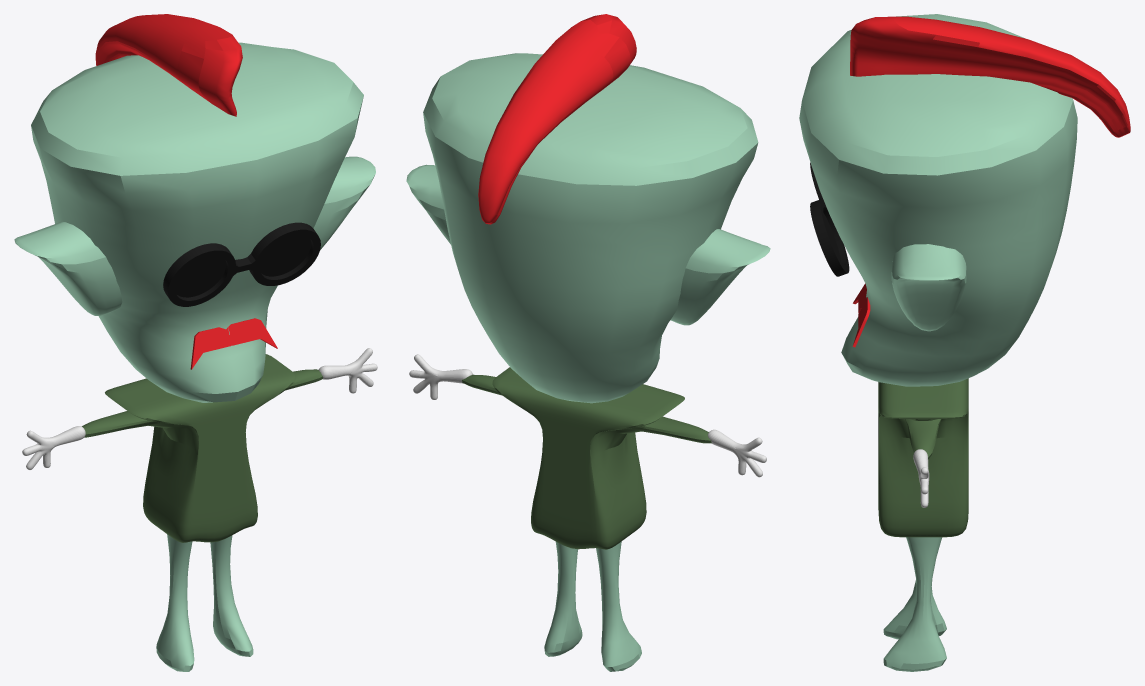
The model's file is Dr.NeoVillano.fbx.
The picture shows the model from 3 angles, left to right: view 1: azimuth 30°, elevation 25°; view 2: azimuth 150°, elevation 25°; view 3: azimuth 270°, elevation 25°; orthographic projection. The views are drawn at different scales.
Visible parts, largest first — view 1: Cube, Cube.003, Cube.002, Cube.001, Circle, Cube.004, Vert.001, Mouth; view 2: Cube, Cube.003, Cube.002, Cube.001, Cube.004, Vert.001; view 3: Cube, Cube.002, Cube.003, Cube.001, Cube.004, Circle, Vert.001, Mouth.
Boxes of the visible parts, box(x1,y1,x2,y2) form: Cube: box(31, 42, 363, 402); Cube.003: box(82, 354, 322, 542); Cube.002: box(95, 14, 242, 116); Cube.001: box(14, 156, 375, 315); Circle: box(163, 222, 320, 306); Cube.004: box(156, 534, 253, 671); Vert.001: box(22, 348, 377, 469); Mouth: box(190, 318, 277, 369); Cube: box(423, 53, 758, 403); Cube.003: box(462, 367, 711, 549); Cube.002: box(478, 14, 636, 224); Cube.001: box(406, 164, 770, 325); Cube.004: box(544, 541, 641, 671); Vert.001: box(409, 354, 766, 477); Cube: box(799, 14, 1077, 386); Cube.002: box(850, 16, 1130, 137); Cube.003: box(878, 378, 968, 537); Cube.001: box(891, 244, 966, 331); Cube.004: box(883, 537, 946, 671); Circle: box(810, 162, 849, 276); Vert.001: box(913, 449, 929, 507); Mouth: box(852, 283, 870, 347).
Bounding box in the file's own units: 271 × 456 × 214.
